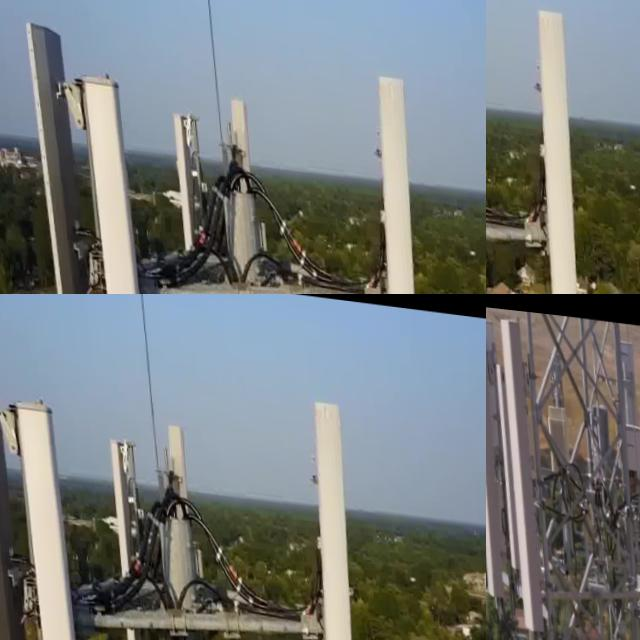GSM Antenna: (15, 12, 94, 294), (492, 305, 552, 620), (0, 380, 71, 640), (56, 54, 129, 294), (98, 417, 155, 640), (533, 0, 575, 294), (312, 382, 354, 640), (373, 56, 415, 294), (158, 99, 207, 294), (0, 418, 35, 640), (486, 299, 507, 587), (614, 313, 640, 478), (153, 404, 192, 503), (222, 86, 250, 171)
